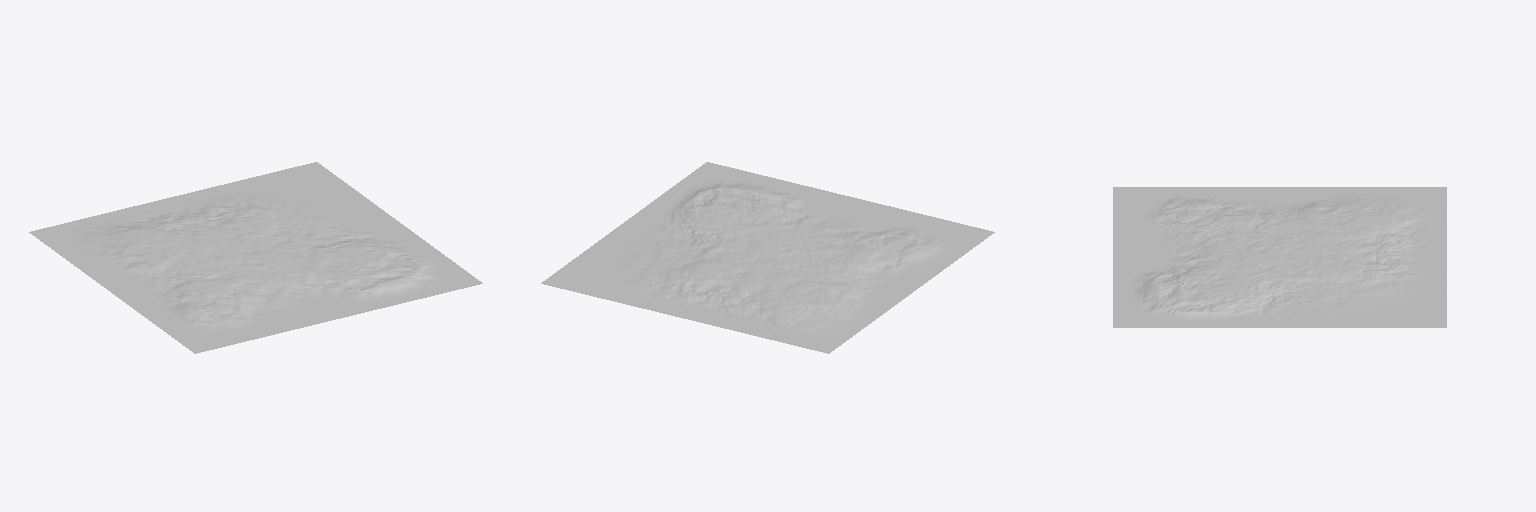
File: ground_6.obj
The picture shows the model from 3 angles: view 1: azimuth 30°, elevation 25°; view 2: azimuth 150°, elevation 25°; view 3: azimuth 270°, elevation 25°; orthographic projection.
Parts seen in each view (by area): view 1: Plane001; view 2: Plane001; view 3: Plane001.
Part boxes in pixels (left/top/right/bottom): Plane001: left=29, top=162, right=482, bottom=353; Plane001: left=541, top=162, right=994, bottom=353; Plane001: left=1113, top=187, right=1446, bottom=327.
Bounding box in the file's own units: 64000 × 793 × 64000.